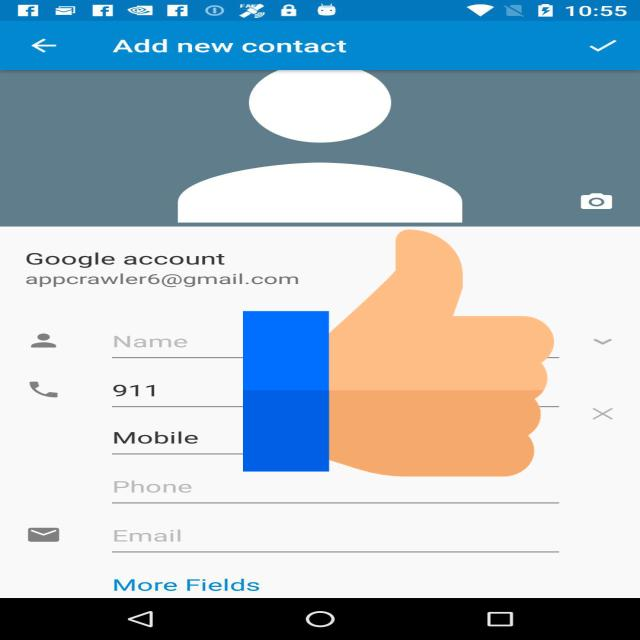privacy zuckering: (243, 223, 554, 483)
